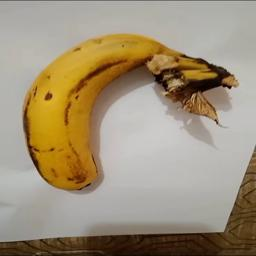Banana Semifresh: (17, 28, 237, 195)
